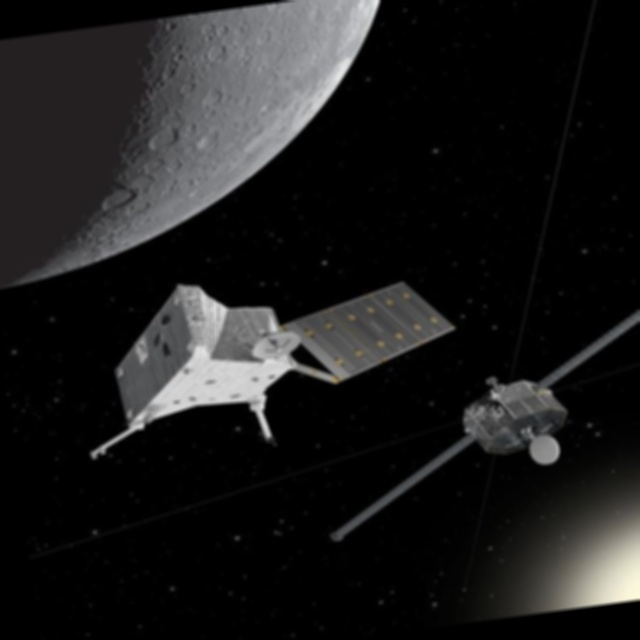medium_debris: (58, 250, 453, 480), (293, 328, 640, 547)
